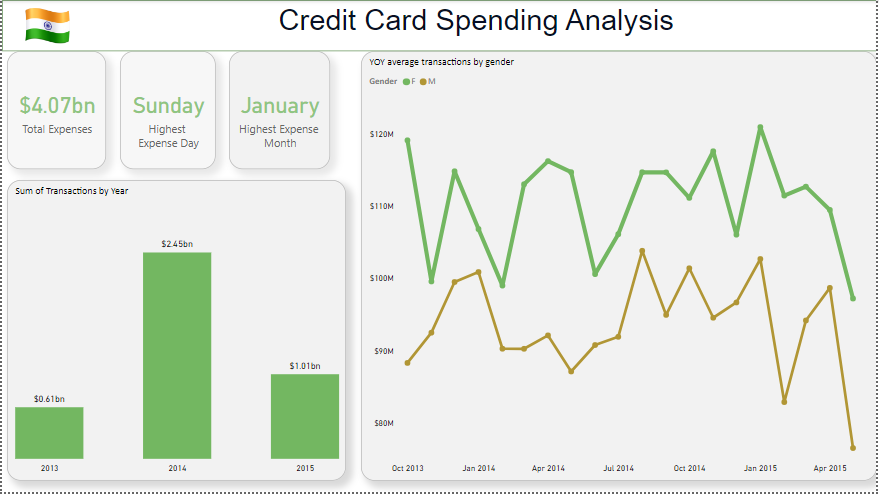

This screenshot's page, from the dashboard's own definition file:
{"tool":"powerbi","page":{"name":"Time Intelligence","canvas":[1280,720],"ordinal":0},"visuals":[{"type":"card","fields":{"Values":["Credit card transactions - India - Simple.total_sales"]},"box":[7.3,74.6,144.9,172.7],"z":0},{"type":"card","fields":{"Values":["Min(sales_by_day.Day Name)"]},"box":[172.7,74.6,140.5,172.7],"z":1000},{"type":"card","fields":{"Values":["Min(sales_by_month.Month Name)"]},"box":[332.2,74.6,147.8,172.7],"z":2000},{"type":"columnChart","title":"Sum of Transactions by Year","fields":{"Category":["Credit card transactions - India - Simple.Date.Variation.Date Hierarchy.Year"],"Y":["Sum(Credit card transactions - India - Simple.Amount)"]},"box":[7.3,263.4,496.1,440.5],"z":2500},{"type":"lineChart","title":"YOY average transactions by gender","fields":{"Y":["Sum(Credit card transactions - India - Simple.Amount)"],"Category":["Credit card transactions - India - Simple.Date.Variation.Date Hierarchy.Year","Credit card transactions - India - Simple.Date.Variation.Date Hierarchy.Month"],"Series":["Credit card transactions - India - Simple.Gender"]},"box":[525.4,74.6,755.1,629.3],"z":4000},{"type":"group","id":"g1","title":"Banner","box":[0,0,1280,75],"z":6000},{"type":"shape","box":[0,0,1280,75],"z":6000,"group":"g1"},{"type":"image","box":[0,0,133.3,75],"z":7500,"group":"g1"},{"type":"textbox","box":[400,0,616.7,75],"z":8001,"group":"g1"}]}

Visuals, with their boxes in screenshot pixels (x1, y1, x2, y2), scaled from the page's 1280x720 canvas onto the 879x494 screenshot:
card - Credit card transactions - India - Simple.total_sales: [left=5, top=51, right=105, bottom=170]
card - Min(sales_by_day.Day Name): [left=119, top=51, right=215, bottom=170]
card - Min(sales_by_month.Month Name): [left=228, top=51, right=330, bottom=170]
"Sum of Transactions by Year" columnChart: [left=5, top=181, right=346, bottom=483]
"YOY average transactions by gender" lineChart: [left=361, top=51, right=878, bottom=483]
"Banner" group: [left=0, top=0, right=878, bottom=51]
shape: [left=0, top=0, right=878, bottom=51]
image: [left=0, top=0, right=92, bottom=51]
textbox: [left=275, top=0, right=698, bottom=51]
